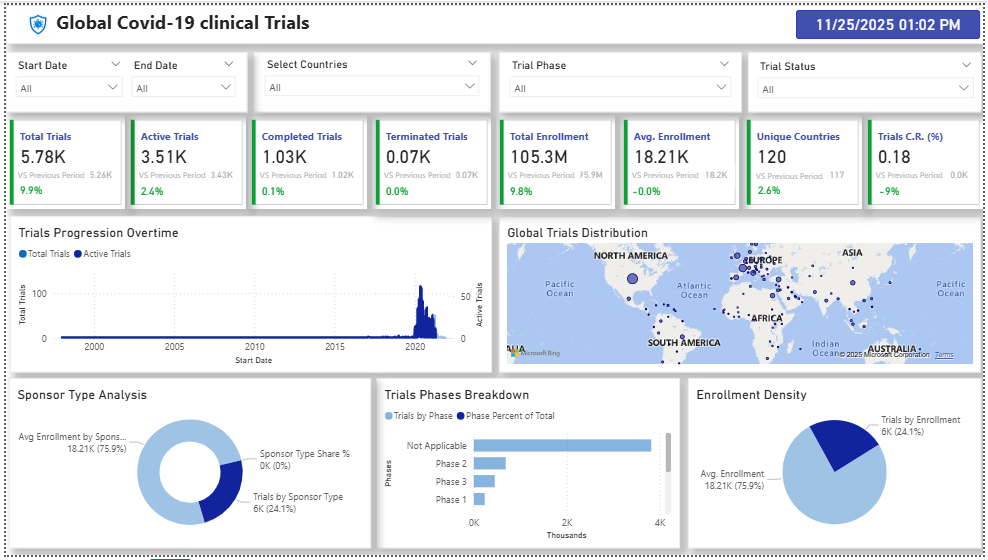

The dashboard page shown, as its layout file describes it:
{"tool":"powerbi","page":{"name":"COVID-19 Dashboard","canvas":[1280,720],"ordinal":0},"visuals":[{"type":"textbox","box":[0,0,1279.8,51.4],"z":0},{"type":"textbox","box":[323.8,61.2,311.2,78.8],"z":1000},{"type":"slicer","fields":{"Values":["ClinicalTrials.Country"]},"box":[328.8,63.8,301.2,73.8],"z":2000},{"type":"textbox","box":[0,61.2,316.2,78.8],"z":3000},{"type":"slicer","fields":{"Values":["ClinicalTrials.Start Date"]},"box":[2.5,65,160,71.2],"z":4000},{"type":"slicer","fields":{"Values":["ClinicalTrials.Completion Date"]},"box":[155,65,156.2,71.2],"z":5000},{"type":"textbox","box":[645,61.2,317.5,78.8],"z":6000},{"type":"slicer","fields":{"Values":["ClinicalTrials.Phases"]},"box":[649.5,64.9,310.3,72.2],"z":7000},{"type":"textbox","box":[971.2,61.2,305,78.8],"z":8000},{"type":"slicer","fields":{"Values":["ClinicalTrials.Status"]},"box":[973.8,66.2,302.5,71.2],"z":9000},{"type":"cardVisual","fields":{"Data":["KPI's.Active Trials (count)"]},"box":[158.7,145.5,156,122],"z":10000},{"type":"card","fields":{"Values":["KPI's.Active Trials Previous Period"]},"box":[257.1,208.7,51.4,30.9],"z":11000},{"type":"textbox","box":[169,207.2,99.9,32.3],"z":12000},{"type":"card","fields":{"Values":["KPI's.Active Trials Change %"]},"box":[169,229.2,45,23.5],"z":13000},{"type":"cardVisual","fields":{"Data":["KPI's.Completed Trials"]},"box":[317.1,145.2,156,122],"z":14000},{"type":"card","fields":{"Values":["KPI's.Completed Trials Previous Period"]},"box":[415.6,208.4,51.4,30.9],"z":15000},{"type":"textbox","box":[327.4,206.9,99.9,32.3],"z":16000},{"type":"card","fields":{"Values":["KPI's.Completed Trials Change %"]},"box":[327.4,228.9,45,23.5],"z":17000},{"type":"cardVisual","fields":{"Data":["KPI's.Total Trials (count)"]},"box":[-0.3,145.2,156,122],"z":18000},{"type":"card","fields":{"Values":["KPI's.Total Trials PY"]},"box":[98.2,208.4,51.4,30.9],"z":19000},{"type":"textbox","box":[10,206.9,99.9,32.3],"z":20000},{"type":"card","fields":{"Values":["KPI's.Total Trials Change %"]},"box":[10,228.8,45,23.8],"z":21000},{"type":"card","fields":{"Values":["ClinicalTrials.Date"]},"box":[1033.8,6.2,241.2,37.5],"z":22000},{"type":"lineChart","title":"Trials Progression Overtime","fields":{"Category":["ClinicalTrials.Start Date.Variation.Date Hierarchy.Year"],"Y":["KPI's.Total Trials"],"Y2":["KPI's.Active Trials"]},"box":[5,276.2,631.2,205],"z":23000},{"type":"map","title":"Global  Trials Distribution","fields":{"Category":["ClinicalTrials.Country"],"Size":["KPI's.Trials by Country"]},"box":[645,276.2,631.2,205],"z":24000},{"type":"barChart","title":"Trials Phases Breakdown","fields":{"Category":["ClinicalTrials.Phases"],"Y":["KPI's.Trials by Phase","KPI's.Phase % of Total"]},"box":[485,488.8,397.5,222.5],"z":25000},{"type":"donutChart","title":"Sponsor Type Analysis","fields":{"Y":["KPI's.Sponsor Type Share %","KPI's.Trials by Sponsor Type","KPI's.Avg Enrollment by Sponsor"]},"box":[3.8,488.8,473.8,222.5],"z":26000},{"type":"pieChart","title":"Enrollment Density","fields":{"Y":["KPI's.Average Enrollment (count)","KPI's.Trials by Enrollment"]},"box":[892.5,488.8,383.8,222.5],"z":27000},{"type":"cardVisual","fields":{"Data":["KPI's.Terminated Trials"]},"box":[478.7,145.5,156,122],"z":28000},{"type":"card","fields":{"Values":["KPI's.Terminated Trials Previous Period"]},"box":[577.1,208.7,51.4,30.9],"z":29000},{"type":"textbox","box":[489,207.2,99.9,32.3],"z":30000},{"type":"card","fields":{"Values":["KPI's.Terminated Trials Change %"]},"box":[489,229.2,45,23.5],"z":31000},{"type":"cardVisual","fields":{"Data":["KPI's.Total Enrollment (count)"]},"box":[641.6,145.5,156,122],"z":32000},{"type":"card","fields":{"Values":["KPI's.Total Enrollment Previous Period"]},"box":[741.4,208.6,49,31.4],"z":33000},{"type":"textbox","box":[651.8,207.2,99.9,32.3],"z":34000},{"type":"card","fields":{"Values":["KPI's.Total Enrollment Change %"]},"box":[651.8,229.2,45,23.5],"z":35000},{"type":"cardVisual","fields":{"Data":["KPI's.Average Enrollment"]},"box":[804.4,145.5,156,122],"z":36000},{"type":"card","fields":{"Values":["KPI's.Average Enrollment Previous Period"]},"box":[904.3,208.6,50,31.4],"z":37000},{"type":"textbox","box":[814.7,207.2,99.9,32.3],"z":38000},{"type":"card","fields":{"Values":["KPI's.Average Enrollment Change %"]},"box":[814.7,229.2,48,23.5],"z":39000},{"type":"cardVisual","fields":{"Data":["KPI's.Unique Countries"]},"box":[964.4,145.5,156,122],"z":40000},{"type":"card","fields":{"Values":["KPI's.Unique Countries Previous Period"]},"box":[1061.4,208.6,51.4,31.4],"z":41000},{"type":"textbox","box":[976.2,207.5,100,32.5],"z":42000},{"type":"card","fields":{"Values":["KPI's.Unique Countries Change %"]},"box":[976.2,228.8,45,23.8],"z":43000},{"type":"cardVisual","fields":{"Data":["KPI's.Trials Completion Rate (%)"]},"box":[1123,145.5,156,122],"z":44000},{"type":"card","fields":{"Values":["KPI's.Trial Completion Rate Previous Period"]},"box":[1223.8,208.8,47.5,31.2],"z":45000},{"type":"textbox","box":[1133.3,207.2,99.9,32.3],"z":46000},{"type":"card","fields":{"Values":["KPI's.Trial Completion Rate Change %"]},"box":[1133.3,229.2,45,23.5],"z":47000},{"type":"image","box":[0,0,83.8,51.2],"z":48000}]}

Visuals, with their boxes in screenshot pixels (x1, y1, x2, y2), scaled from the page's 1280x720 canvas onto the 988x560 screenshot:
textbox: (0,0,987,40)
textbox: (250,48,490,109)
slicer - ClinicalTrials.Country: (254,50,486,107)
textbox: (0,48,244,109)
slicer - ClinicalTrials.Start Date: (2,51,125,106)
slicer - ClinicalTrials.Completion Date: (120,51,240,106)
textbox: (498,48,743,109)
slicer - ClinicalTrials.Phases: (501,50,741,107)
textbox: (750,48,985,109)
slicer - ClinicalTrials.Status: (752,51,985,107)
cardVisual - KPI's.Active Trials (count): (122,113,243,208)
card - KPI's.Active Trials Previous Period: (198,162,238,186)
textbox: (130,161,208,186)
card - KPI's.Active Trials Change %: (130,178,165,197)
cardVisual - KPI's.Completed Trials: (245,113,365,208)
card - KPI's.Completed Trials Previous Period: (321,162,360,186)
textbox: (253,161,330,186)
card - KPI's.Completed Trials Change %: (253,178,287,196)
cardVisual - KPI's.Total Trials (count): (0,113,120,208)
card - KPI's.Total Trials PY: (76,162,115,186)
textbox: (8,161,85,186)
card - KPI's.Total Trials Change %: (8,178,42,196)
card - ClinicalTrials.Date: (798,5,984,34)
"Trials Progression Overtime" lineChart: (4,215,491,374)
"Global  Trials Distribution" map: (498,215,985,374)
"Trials Phases Breakdown" barChart: (374,380,681,553)
"Sponsor Type Analysis" donutChart: (3,380,369,553)
"Enrollment Density" pieChart: (689,380,985,553)
cardVisual - KPI's.Terminated Trials: (369,113,490,208)
card - KPI's.Terminated Trials Previous Period: (445,162,485,186)
textbox: (377,161,455,186)
card - KPI's.Terminated Trials Change %: (377,178,412,197)
cardVisual - KPI's.Total Enrollment (count): (495,113,616,208)
card - KPI's.Total Enrollment Previous Period: (572,162,610,187)
textbox: (503,161,580,186)
card - KPI's.Total Enrollment Change %: (503,178,538,197)
cardVisual - KPI's.Average Enrollment: (621,113,741,208)
card - KPI's.Average Enrollment Previous Period: (698,162,737,187)
textbox: (629,161,706,186)
card - KPI's.Average Enrollment Change %: (629,178,666,197)
cardVisual - KPI's.Unique Countries: (744,113,865,208)
card - KPI's.Unique Countries Previous Period: (819,162,859,187)
textbox: (754,161,831,187)
card - KPI's.Unique Countries Change %: (754,178,788,196)
cardVisual - KPI's.Trials Completion Rate (%): (867,113,987,208)
card - KPI's.Trial Completion Rate Previous Period: (945,162,981,187)
textbox: (875,161,952,186)
card - KPI's.Trial Completion Rate Change %: (875,178,910,197)
image: (0,0,65,40)
